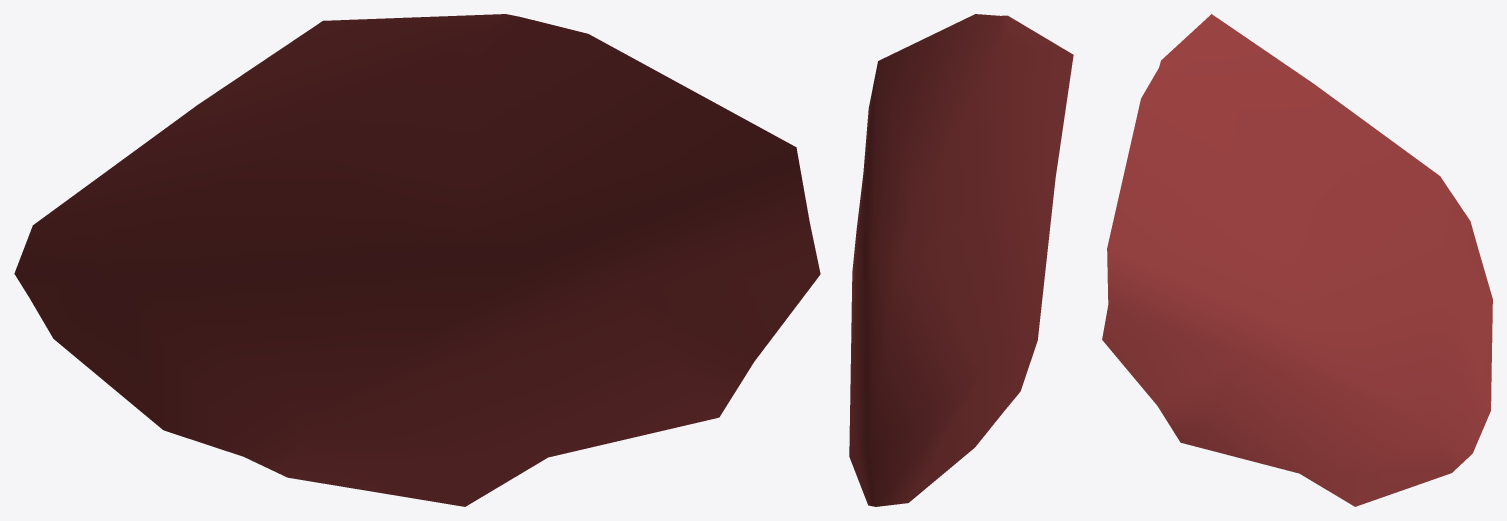
The model's file is longissimus-thoracis-muscle-e26r.glb.
3 renders of one model, left to right at view 1: azimuth 30°, elevation 25°; view 2: azimuth 150°, elevation 25°; view 3: azimuth 270°, elevation 25°, orthographic. The views are drawn at different scales.
Visible parts, largest first — view 1: Longissimus thoracis muscle.e26r; view 2: Longissimus thoracis muscle.e26r; view 3: Longissimus thoracis muscle.e26r.
Part boxes in pixels (x1,y1,x2,y2): Longissimus thoracis muscle.e26r: (14,14,820,506); Longissimus thoracis muscle.e26r: (849,14,1073,506); Longissimus thoracis muscle.e26r: (1102,14,1492,506).
Size of the model in its own units: 0.00474 by 0.00536 by 0.00461.
